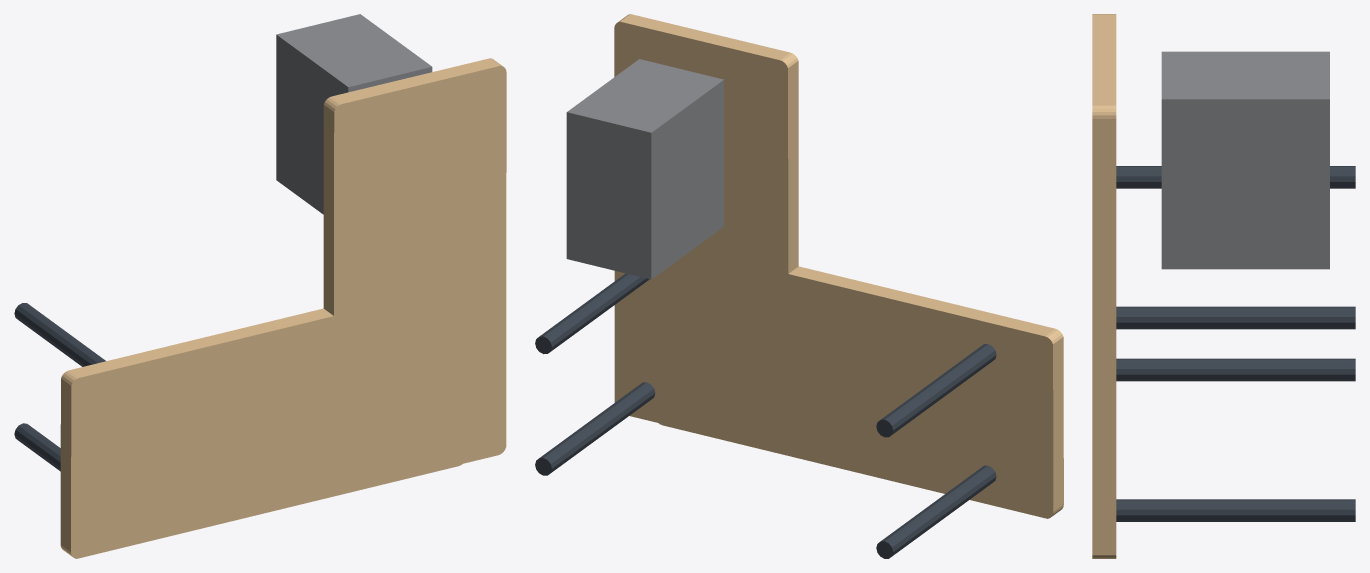
Rendered from DESK_L_CORNER_001.glb.
3 views of the same model, side by side, from view 1: azimuth 30°, elevation 25°; view 2: azimuth 150°, elevation 25°; view 3: azimuth 270°, elevation 25° (orthographic). The views are drawn at different scales.
Visible parts, largest first — view 1: main_top_000, return_top_001, drawer_return_006, leg_003, leg_002; view 2: main_top_000, return_top_001, drawer_return_006, leg_003, leg_002, leg_004, leg_005; view 3: drawer_return_006, return_top_001, leg_002, leg_005, leg_004, leg_003.
Part boxes in pixels (x1=…): main_top_000: x1=60, y1=286, x2=466, y2=558; return_top_001: x1=323, y1=58, x2=506, y2=491; drawer_return_006: x1=276, y1=14, x2=432, y2=214; leg_003: x1=14, y1=303, x2=105, y2=366; leg_002: x1=14, y1=423, x2=60, y2=471; main_top_000: x1=654, y1=250, x2=1063, y2=518; return_top_001: x1=614, y1=14, x2=798, y2=452; drawer_return_006: x1=566, y1=59, x2=723, y2=279; leg_003: x1=876, y1=344, x2=996, y2=437; leg_002: x1=876, y1=465, x2=996, y2=558; leg_004: x1=535, y1=382, x2=655, y2=475; leg_005: x1=535, y1=273, x2=649, y2=354; drawer_return_006: x1=1161, y1=51, x2=1329, y2=269; return_top_001: x1=1092, y1=14, x2=1116, y2=558; leg_002: x1=1116, y1=306, x2=1355, y2=329; leg_005: x1=1116, y1=358, x2=1355, y2=381; leg_004: x1=1116, y1=499, x2=1355, y2=521; leg_003: x1=1116, y1=166, x2=1355, y2=188.
Size of the model in its own units: 1.82 by 1.55 by 0.815.
